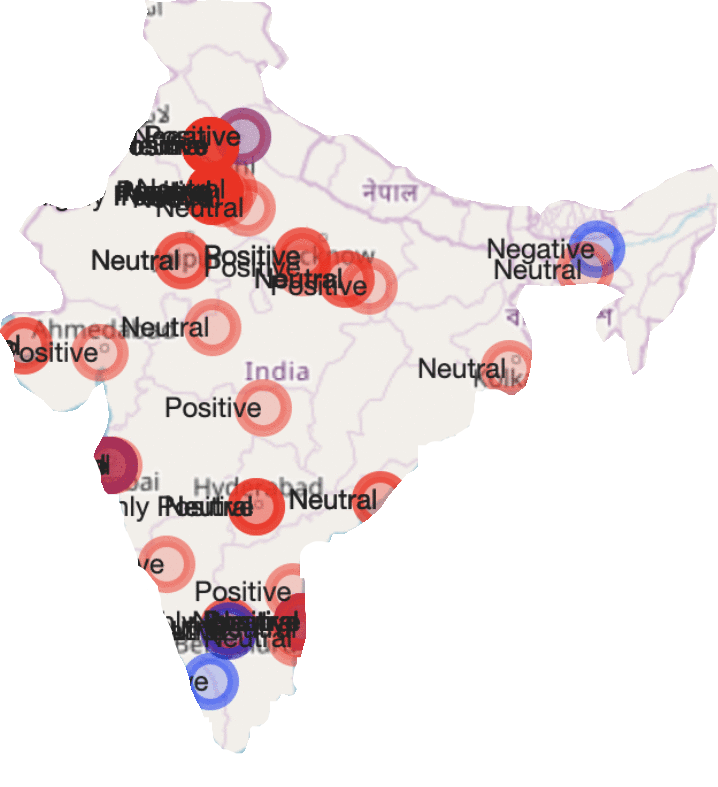

The page's visual inventory and layout, read from the dashboard file:
{"tool":"tableau","page":{"name":"Cities","canvas":[1300,750],"ordinal":0},"visuals":[{"type":"worksheet","title":"Map","mark":"Shape","rows":["Long"],"cols":["Lat"],"box":[12,60,1273,492]},{"type":"text","box":[70,579,1161,115]}]}

Visuals, with their boxes on the page's 1300x750 design canvas (x1, y1, x2, y2). These are canvas units, not pixel positions in the 718x787 screenshot, which may show the page scaled, cropped or inside an application window:
"Map" worksheet (Shape marks): <bbox>12, 60, 1285, 552</bbox>
text: <bbox>70, 579, 1231, 694</bbox>
